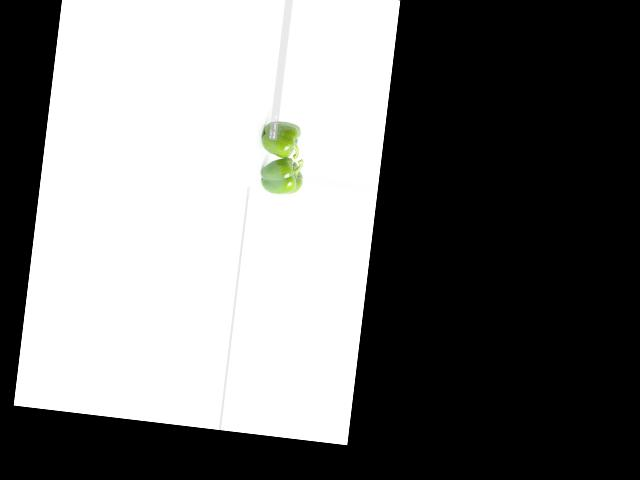bell_pepper: (252, 154, 307, 197)
